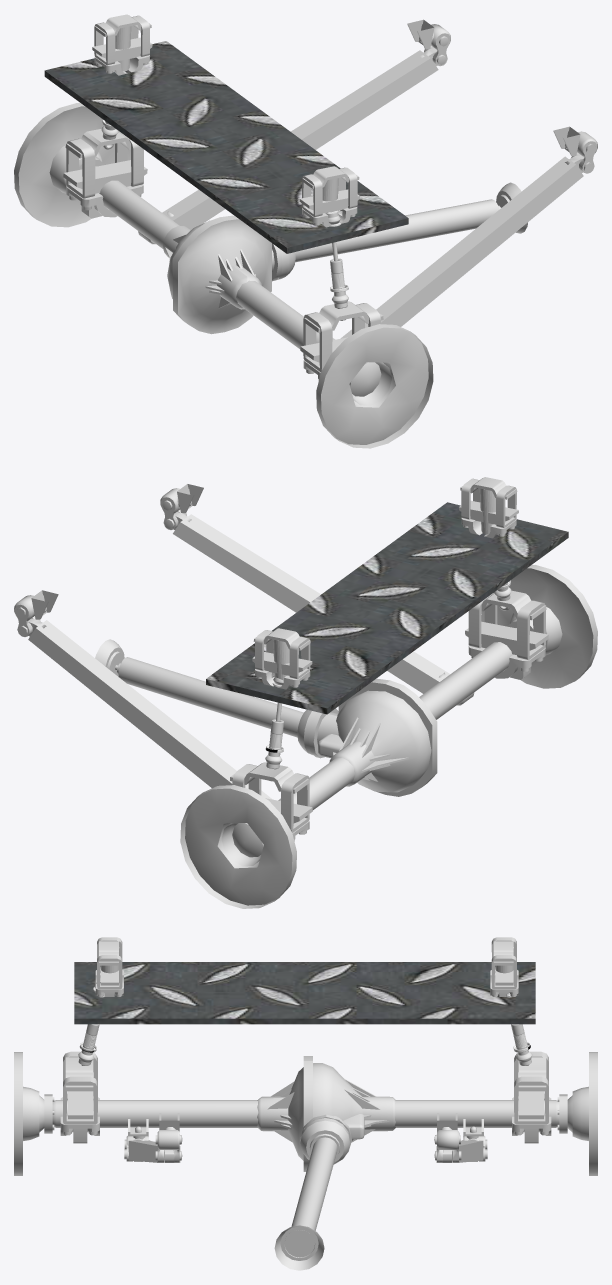
File: axle.fbx
The picture shows the model from 3 angles, top to bottom: view 1: azimuth 30°, elevation 25°; view 2: azimuth 150°, elevation 25°; view 3: azimuth 270°, elevation 25°; orthographic projection. The views are drawn at different scales.
Parts seen in each view (by area): view 1: axle.002, axle.004, axle, axle.001, axle.007, axle.006; view 2: axle.002, axle.004, axle, axle.001, axle.007, axle.006; view 3: axle.004, axle.002, axle, axle.001, axle.007.
Part boxes in pixels (x1=…): axle.002: x1=14, y1=14, x2=597, y2=448; axle.004: x1=44, y1=41, x2=408, y2=253; axle: x1=63, y1=128, x2=383, y2=380; axle.001: x1=277, y1=182, x2=527, y2=279; axle.007: x1=101, y1=121, x2=348, y2=320; axle.006: x1=115, y1=26, x2=338, y2=213; axle.002: x1=14, y1=477, x2=597, y2=908; axle.004: x1=206, y1=502, x2=568, y2=714; axle: x1=230, y1=590, x2=548, y2=841; axle.001: x1=95, y1=639, x2=317, y2=755; axle.007: x1=265, y1=582, x2=511, y2=781; axle.006: x1=273, y1=488, x2=495, y2=680; axle.004: x1=74, y1=962, x2=535, y2=1024; axle.002: x1=14, y1=937, x2=597, y2=1175; axle: x1=60, y1=1051, x2=551, y2=1143; axle.001: x1=274, y1=1118, x2=350, y2=1270; axle.007: x1=78, y1=977, x2=532, y2=1065.
Size of the model in its own units: 1.17 by 0.7509 by 1.75.
